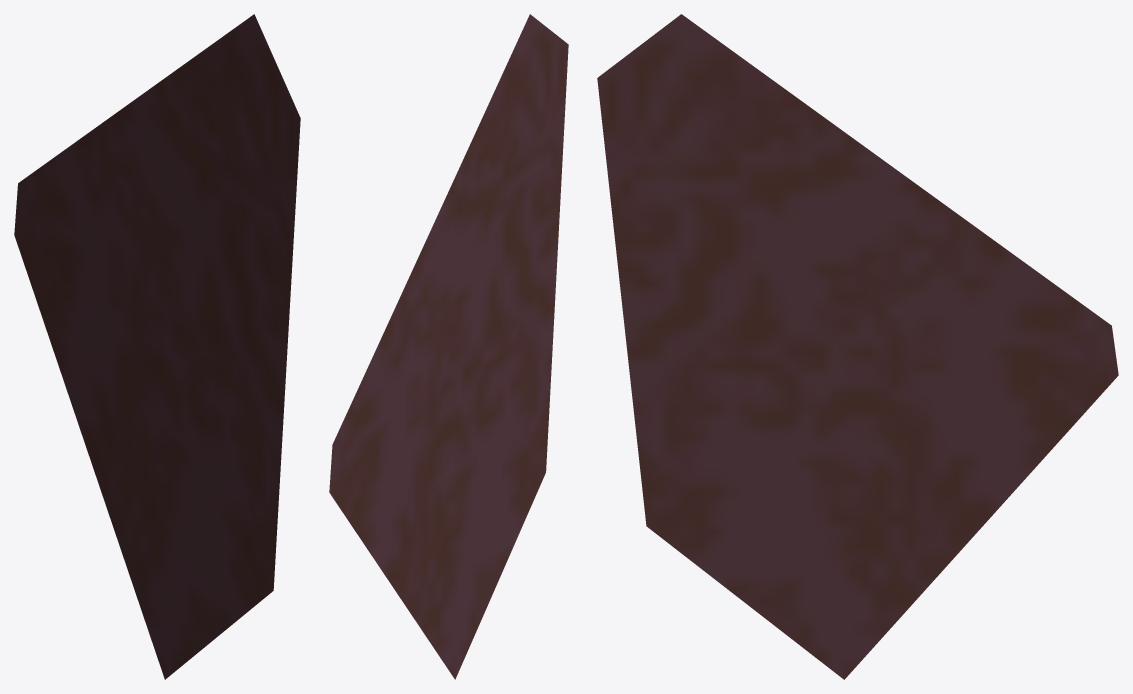
The model's file is Past_BrokenWall3.fbx.
3 renders of one model, left to right at view 1: azimuth 30°, elevation 25°; view 2: azimuth 150°, elevation 25°; view 3: azimuth 270°, elevation 25°, orthographic. The views are drawn at different scales.
Parts seen in each view (by area): view 1: polySurface395; view 2: polySurface395; view 3: polySurface395.
Boxes of the visible parts, x1,y1,x2,y2 form: polySurface395: (14,14,300,679); polySurface395: (329,14,568,679); polySurface395: (597,14,1118,679).
Size of the model in its own units: 6.1e-05 by 118 by 83.66.
1 material, 1 textured.
